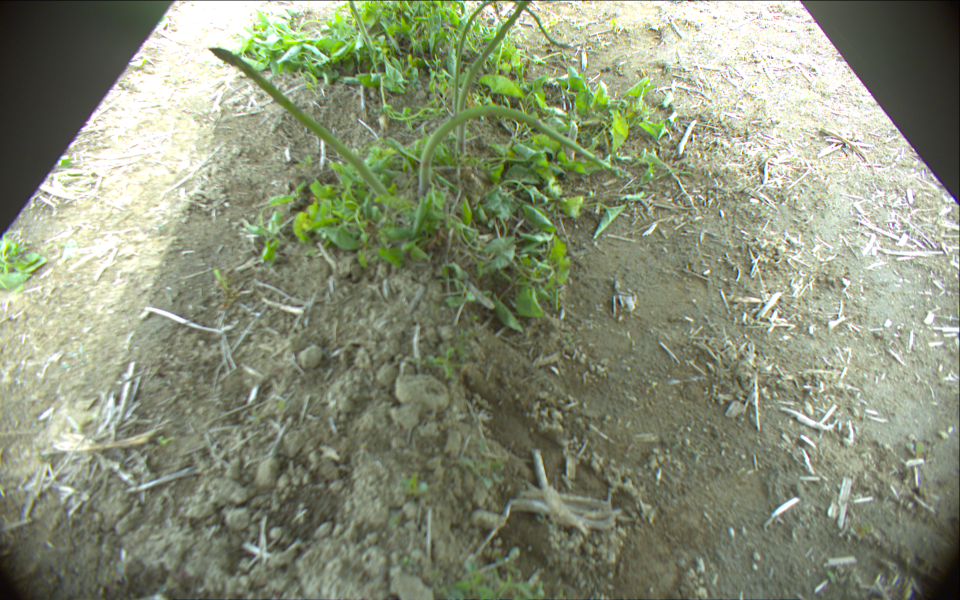aspa: (208, 45, 390, 201), (417, 105, 626, 203), (451, 1, 571, 115), (457, 1, 532, 153), (347, 1, 379, 60)
